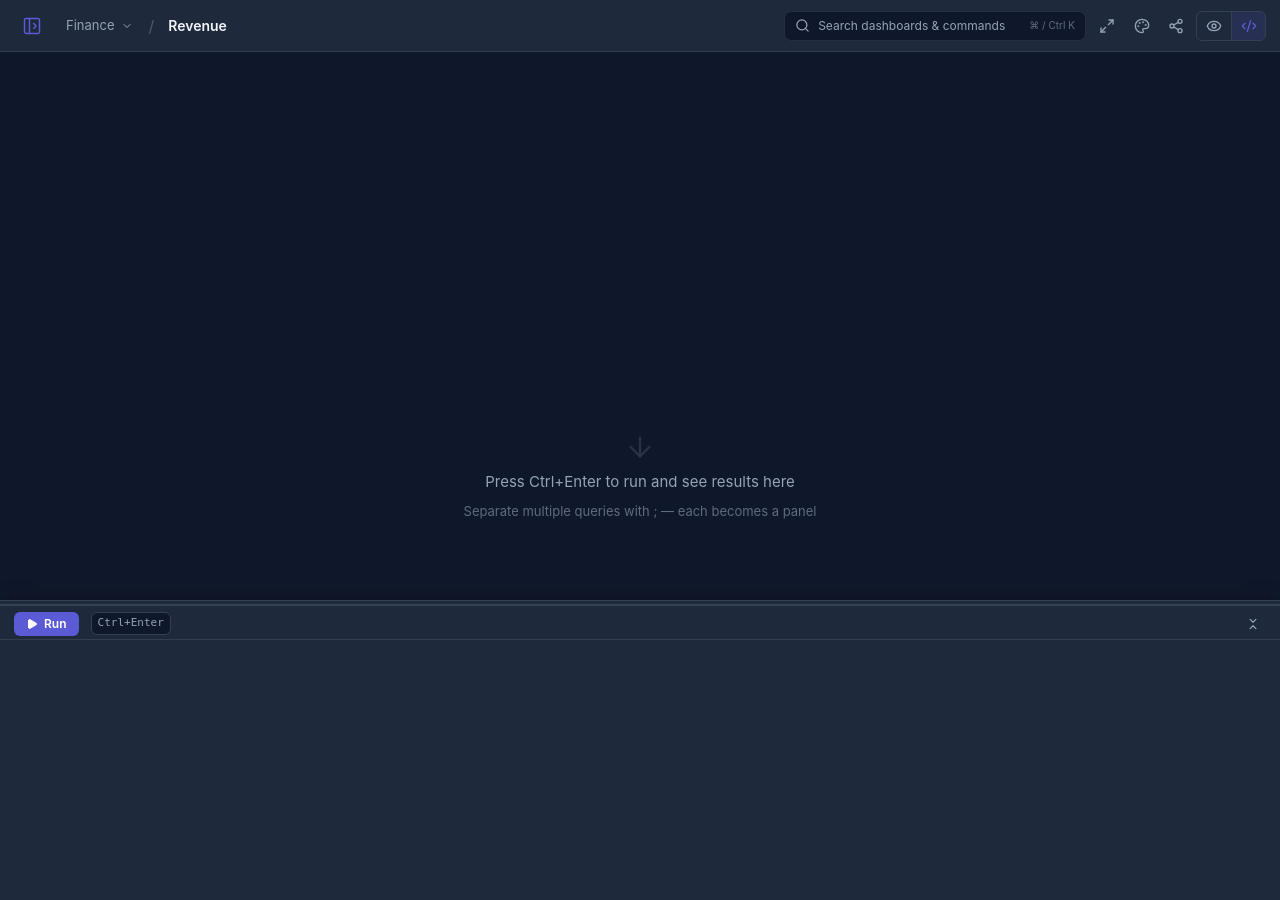
Test case: / workspace navigation › opens visible search and switches dashboards using keyboard selection
The width and height of the screenshot is (1280, 900).
Expected: the button "Revenue" is shown, [164,13,231,38]
Step 1. Click the button with aria-label "Search dashboards and commands" → (935, 26), box [784,10,1086,40]
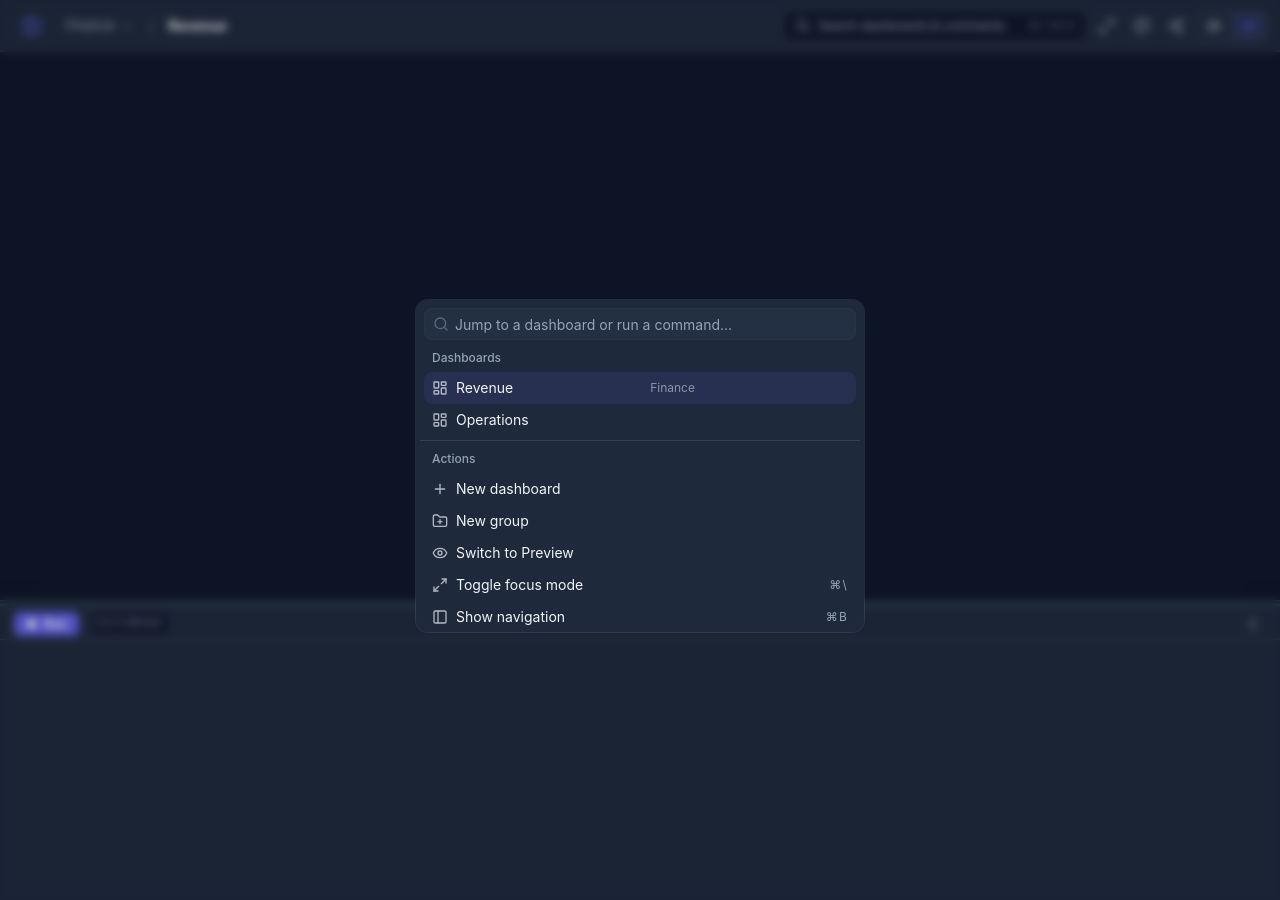
Step 2. Type "Operations" into the dropdown with placeholder "Jump to a dashboard or run a command…" → (652, 324), box [449,309,855,339]
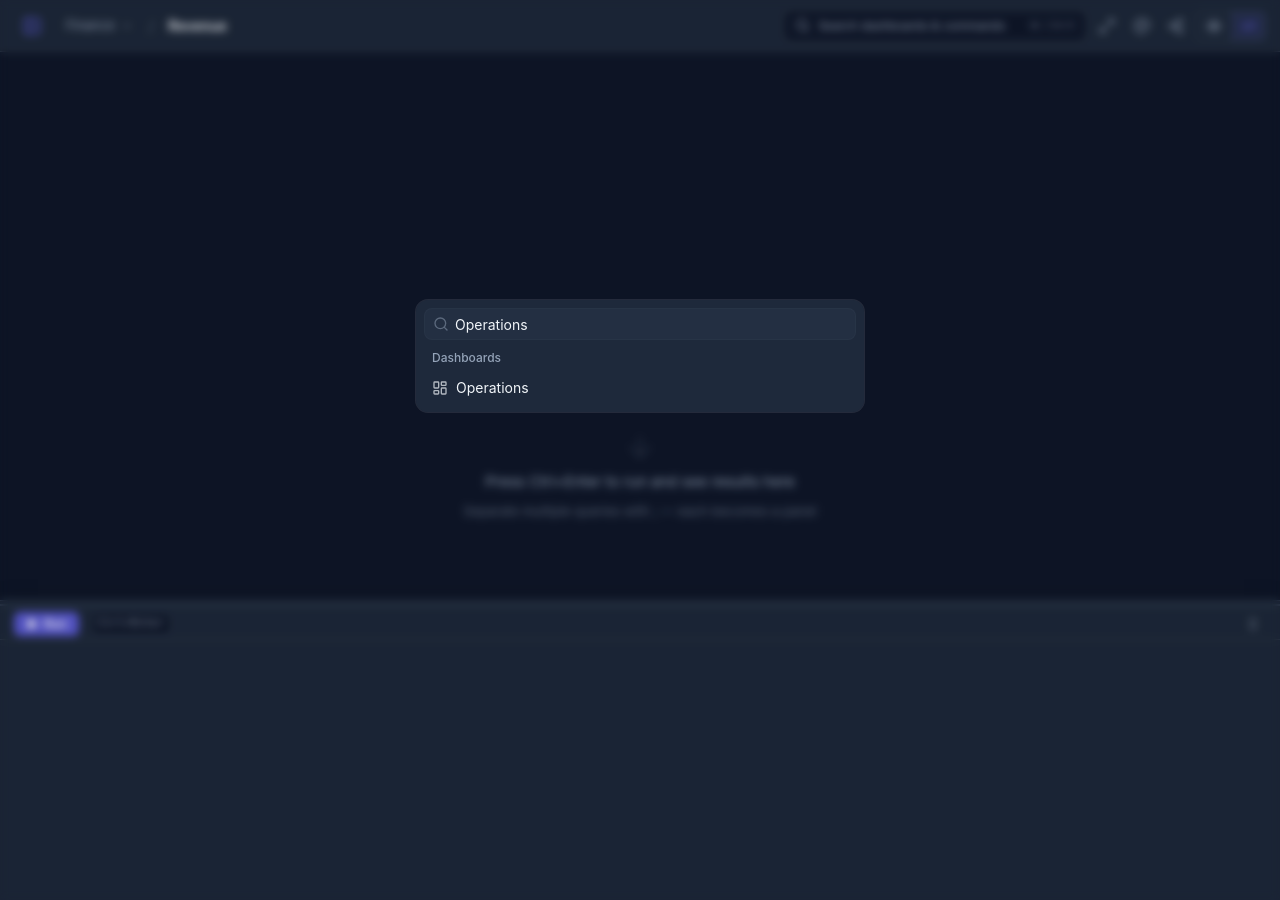
Step 3. Press ArrowDown in the dropdown with placeholder "Jump to a dashboard or run a command…", box [449,309,855,339]
Step 4. Press Enter in the dropdown with placeholder "Jump to a dashboard or run a command…", box [449,309,855,339]
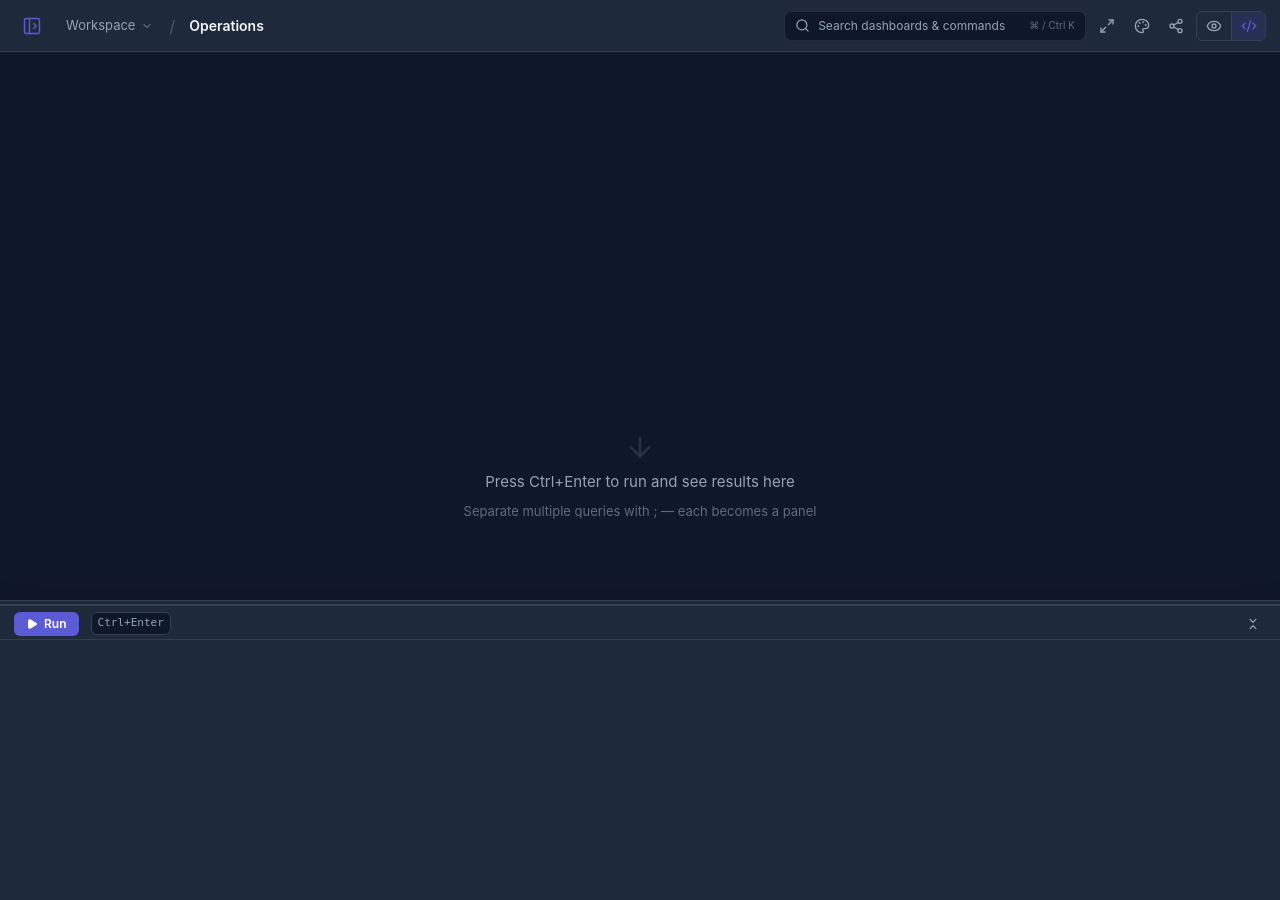
Now the dialog is gone
Now the button "Operations" is shown, box [185,13,268,38]
